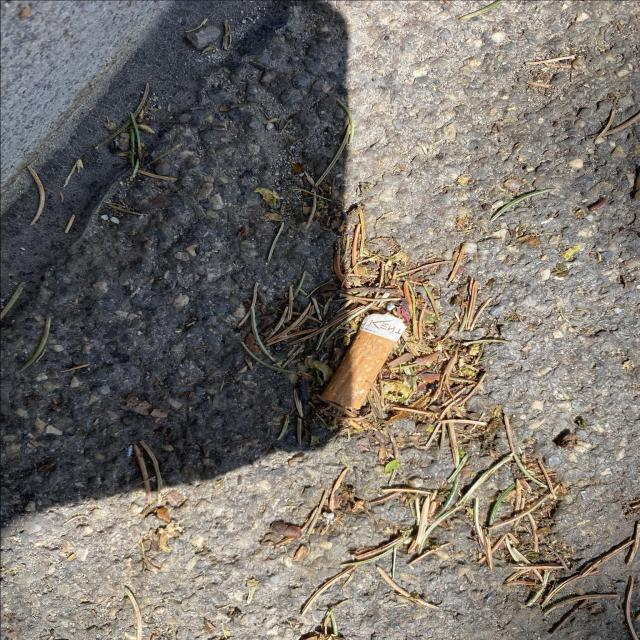other waste: (317, 312, 407, 410)
